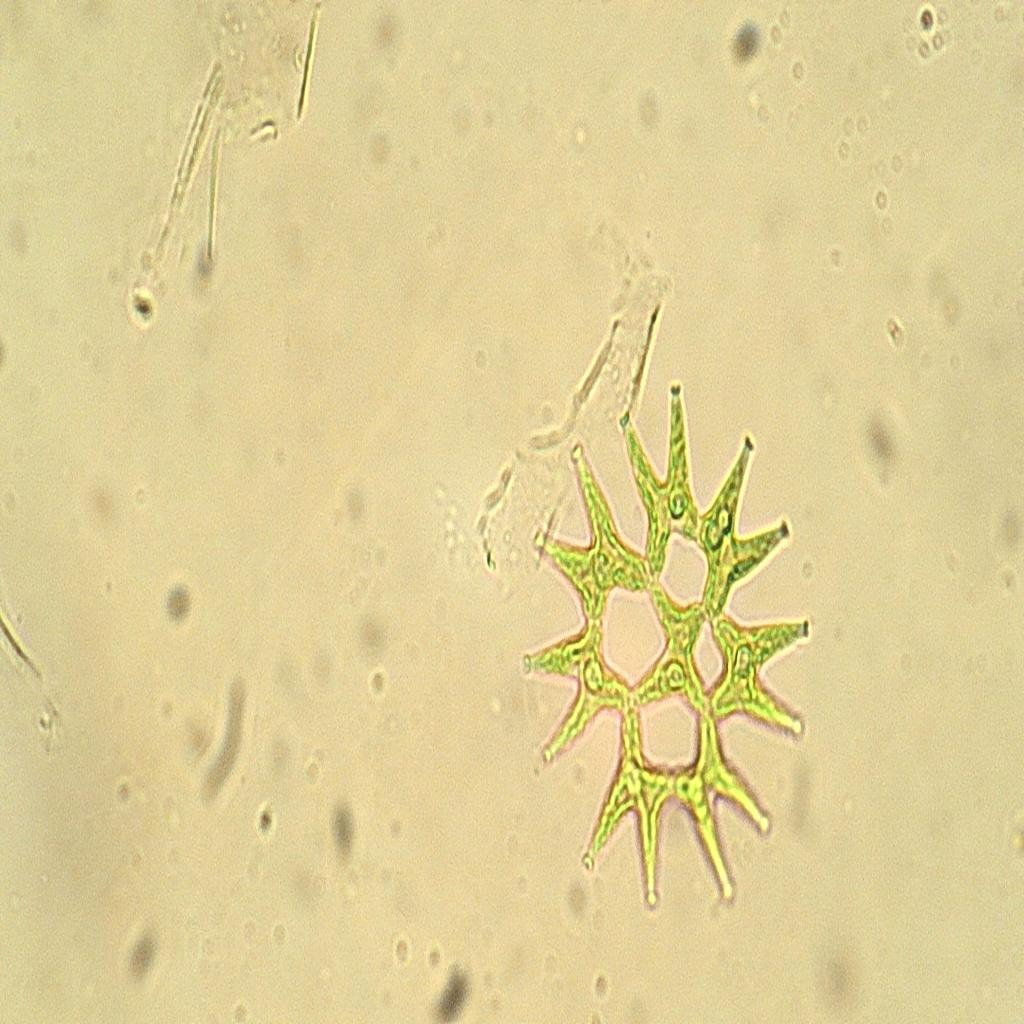Pediastrum_75T: (517, 355, 838, 929)
